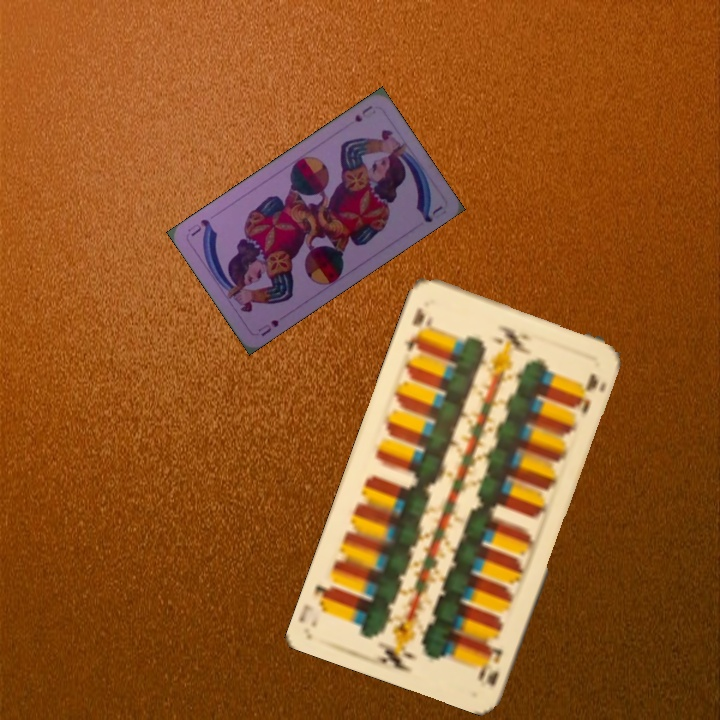E10: (399, 304, 435, 355), (474, 642, 505, 689)
SU: (254, 315, 281, 339), (350, 101, 375, 125)
